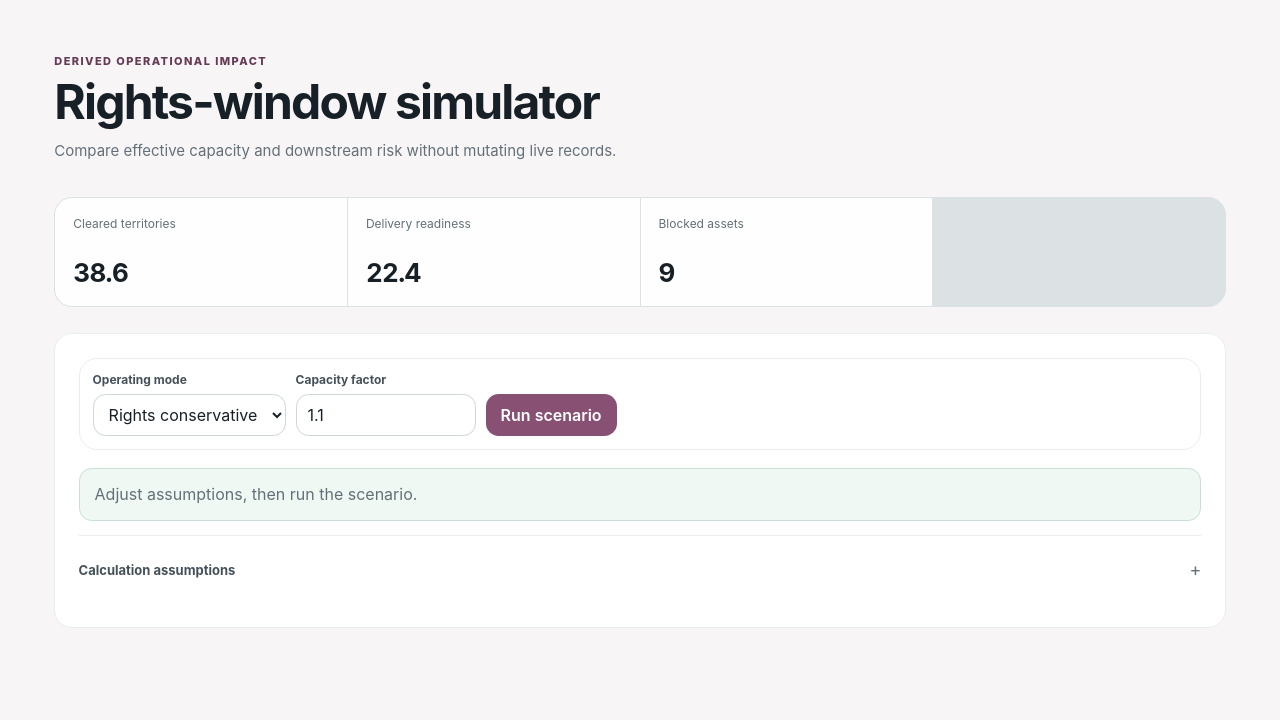
Test case: MediaGrid connected surfaces › runs a deterministic scenario asynchronously
This screenshot has width=1280, height=720.
Click the button "Run scenario".
click(551, 415)  # box left=486, top=394, right=617, bottom=436
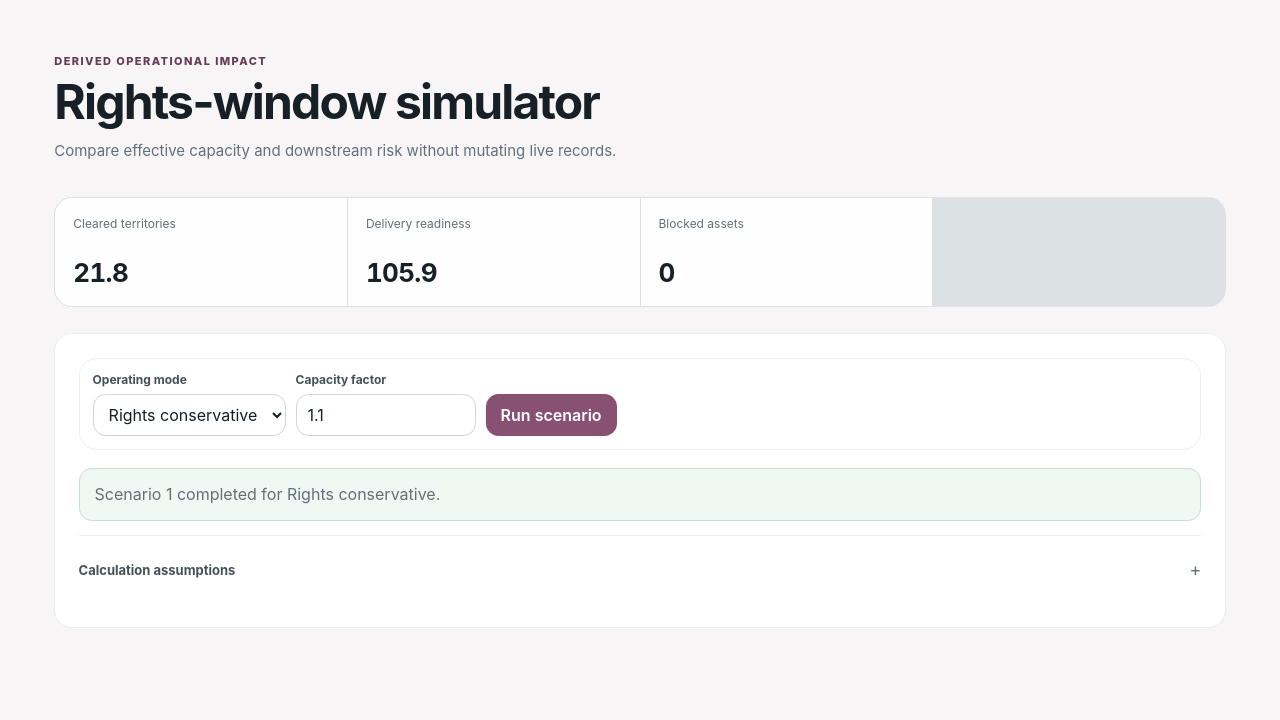
Expected: the message shows "completed", left=95, top=484, right=440, bottom=504
